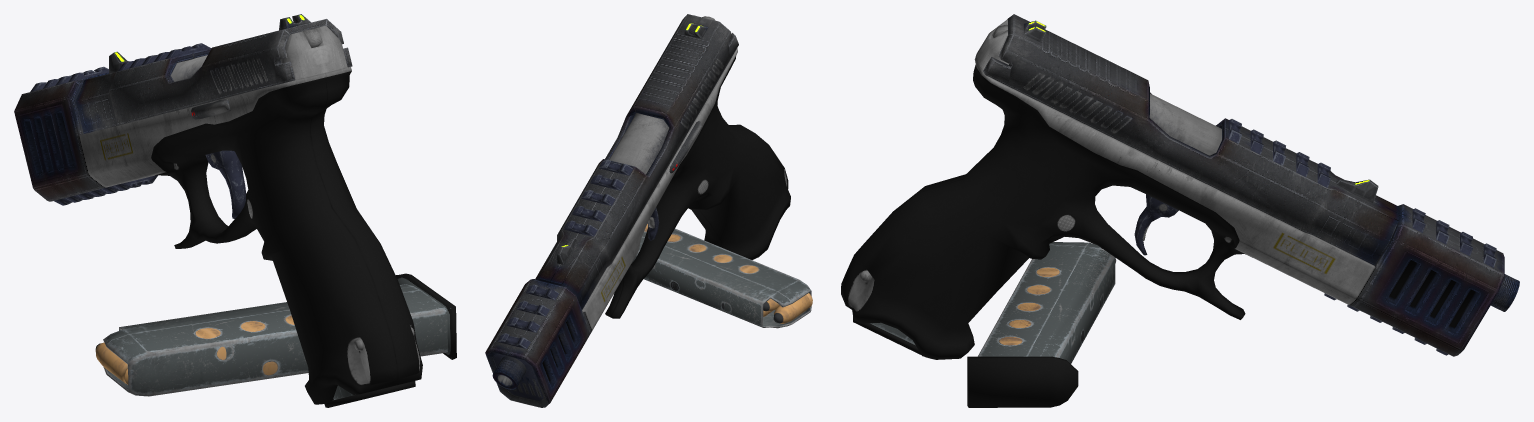
The picture shows the model from 3 angles, left to right: view 1: azimuth 30°, elevation 25°; view 2: azimuth 150°, elevation 25°; view 3: azimuth 270°, elevation 25°; orthographic projection. The views are drawn at different scales.
Visible parts, largest first — view 1: Frame_low_GunGs_0, Clip_low_GunGs_0, Slide_low_GunGs_0, Trigger_low_GunGs_0, Slide Stop_low_GunGs_0, Ejector_low_GunGs_0; view 2: Frame_low_GunGs_0, Slide_low_GunGs_0, Clip_low_GunGs_0, Ejector_low_GunGs_0, Slide Stop_low_GunGs_0; view 3: Frame_low_GunGs_0, Slide_low_GunGs_0, Clip_low_GunGs_0, Ejector_low_GunGs_0, Trigger_low_GunGs_0.
Boxes of the visible parts, x1,y1,x2,y2 form: Frame_low_GunGs_0: (14,25,422,407); Clip_low_GunGs_0: (95,273,456,396); Slide_low_GunGs_0: (75,14,352,133); Trigger_low_GunGs_0: (205,150,246,219); Slide Stop_low_GunGs_0: (191,99,230,119); Ejector_low_GunGs_0: (171,55,207,81); Frame_low_GunGs_0: (485,15,790,407); Slide_low_GunGs_0: (535,14,738,310); Clip_low_GunGs_0: (631,223,812,328); Ejector_low_GunGs_0: (609,113,668,174); Slide Stop_low_GunGs_0: (669,121,701,173); Frame_low_GunGs_0: (841,19,1519,359); Slide_low_GunGs_0: (983,14,1398,265); Clip_low_GunGs_0: (967,242,1116,407); Ejector_low_GunGs_0: (1149,93,1221,155); Trigger_low_GunGs_0: (1134,194,1178,255).
Size of what is drawn, in the model's own units: 105 by 120 by 227.
Materials: 1 (1 with a texture image).
